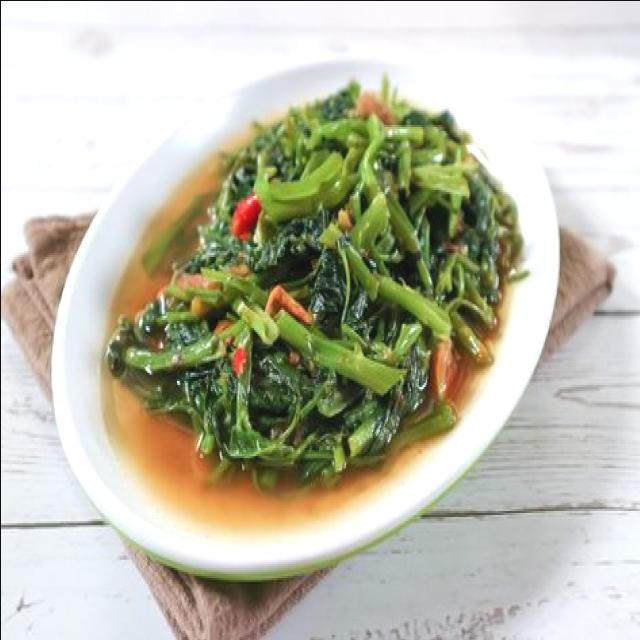tumis kangkung: (100, 77, 532, 498)
